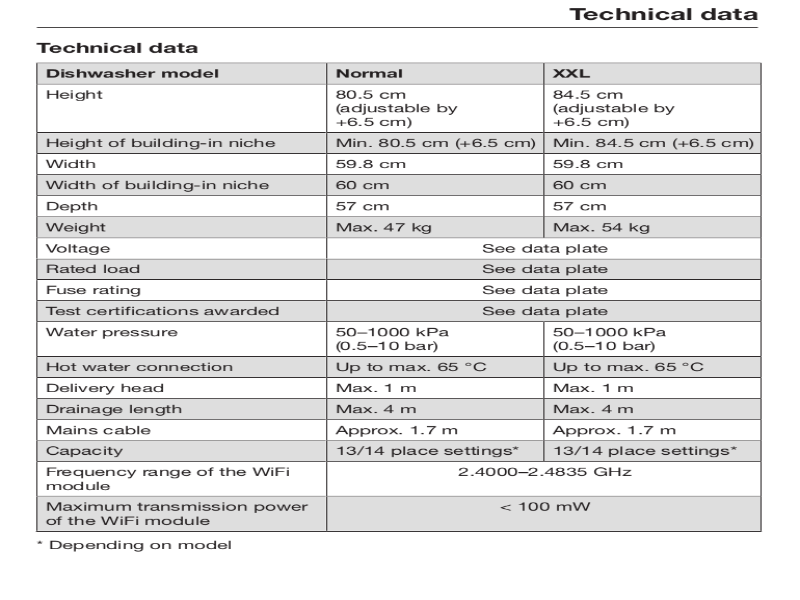border: (23, 54, 781, 537)
cell: (330, 87, 535, 130), (39, 499, 313, 528), (38, 464, 298, 493), (548, 88, 712, 128), (39, 133, 280, 151), (37, 325, 288, 341), (39, 178, 277, 194), (39, 359, 276, 375), (548, 134, 758, 152), (39, 305, 287, 320), (333, 325, 455, 353), (43, 63, 229, 81), (329, 135, 538, 151), (549, 326, 669, 353), (548, 443, 743, 458), (469, 281, 621, 299), (331, 358, 490, 375), (331, 444, 523, 458), (40, 422, 188, 440), (453, 465, 639, 479), (548, 359, 708, 375), (470, 240, 619, 256), (40, 380, 179, 397), (470, 261, 621, 276), (470, 304, 621, 319), (41, 402, 187, 417), (546, 423, 682, 438), (332, 423, 467, 438), (494, 499, 605, 517), (330, 156, 462, 171), (39, 445, 187, 458), (39, 282, 152, 299), (332, 63, 429, 82), (547, 400, 647, 418), (328, 220, 436, 235), (332, 399, 426, 416), (548, 220, 654, 235), (548, 380, 647, 396), (329, 380, 426, 396), (42, 85, 120, 104), (38, 218, 125, 235), (39, 156, 129, 172), (39, 263, 148, 276), (39, 240, 125, 256), (548, 199, 638, 214), (328, 197, 407, 214), (329, 178, 407, 194), (38, 199, 123, 213), (549, 179, 637, 192), (548, 158, 635, 171), (548, 65, 600, 81)
